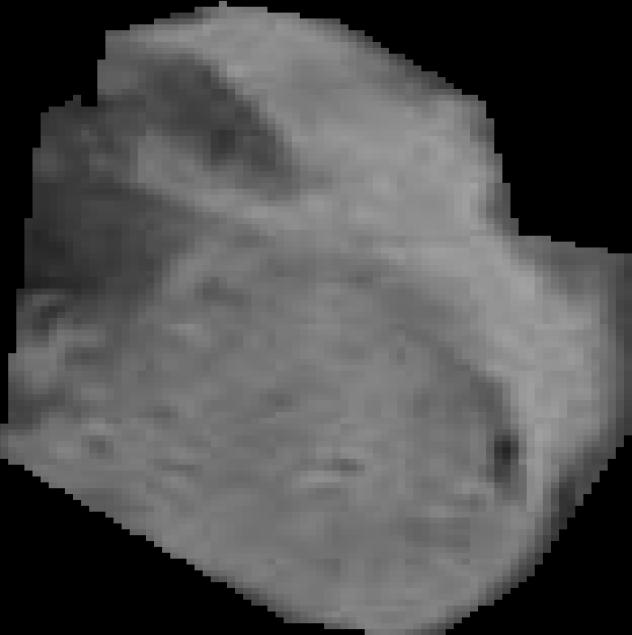tumor_less_chance: (0, 1, 632, 635)
